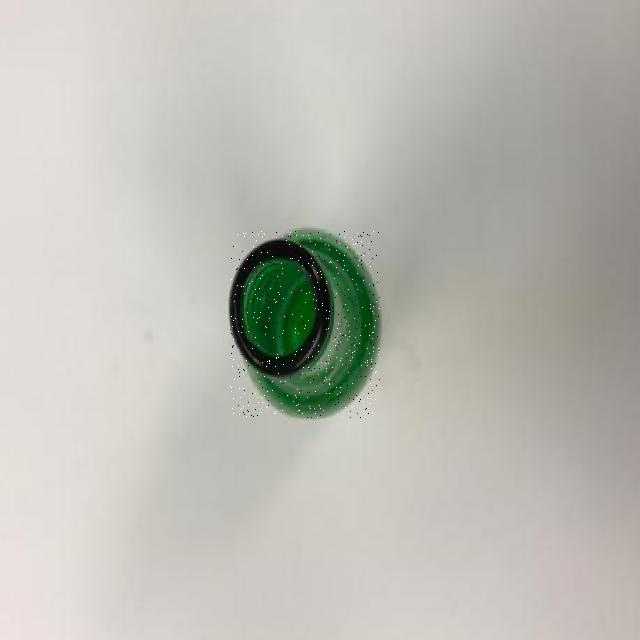glass: (230, 231, 380, 418)
